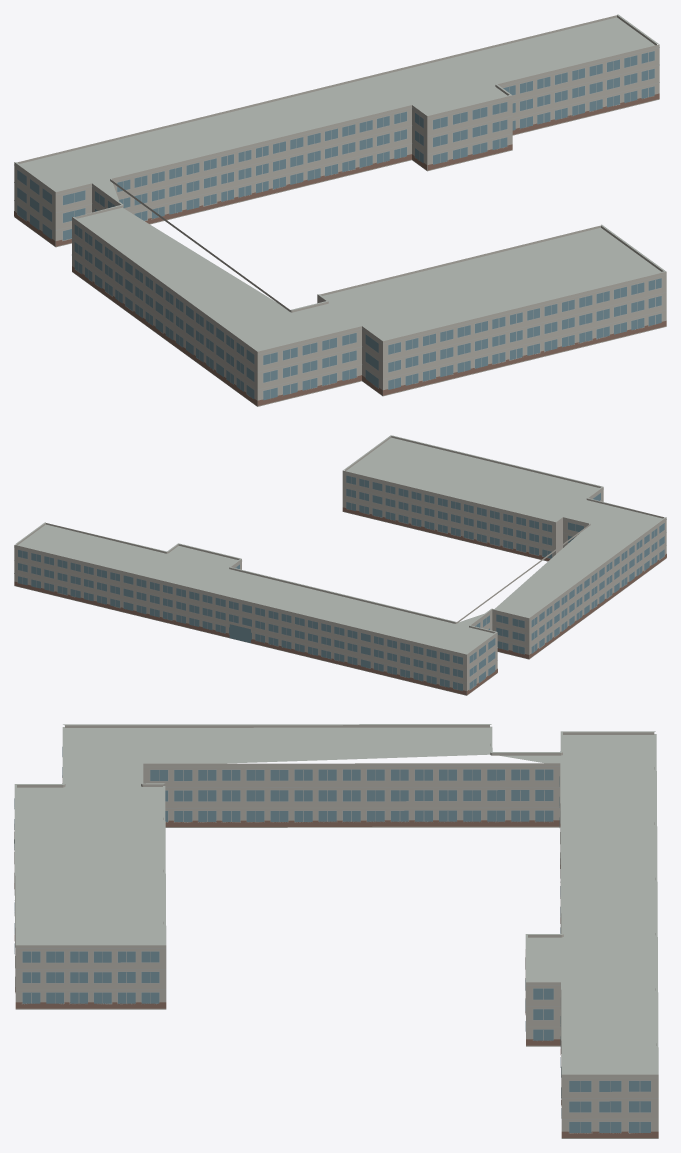
File: public-60261b29-a904-49d2-8083-4ec7e930b1f4.glb
The picture shows the model from 3 angles, top to bottom: view 1: azimuth 30°, elevation 25°; view 2: azimuth 150°, elevation 25°; view 3: azimuth 270°, elevation 25°; orthographic projection. The views are drawn at different scales.
Parts seen in each view (by area): view 1: public-60261b29-a904-49d2-8083-4ec7e930b1f4; view 2: public-60261b29-a904-49d2-8083-4ec7e930b1f4; view 3: public-60261b29-a904-49d2-8083-4ec7e930b1f4.
Part boxes in pixels (x1,y1,x2,y2): public-60261b29-a904-49d2-8083-4ec7e930b1f4: (14,14,666,406); public-60261b29-a904-49d2-8083-4ec7e930b1f4: (14,435,666,695); public-60261b29-a904-49d2-8083-4ec7e930b1f4: (14,724,658,1138).
Bounding box in the file's own units: 107 × 9.15 × 84.27.
